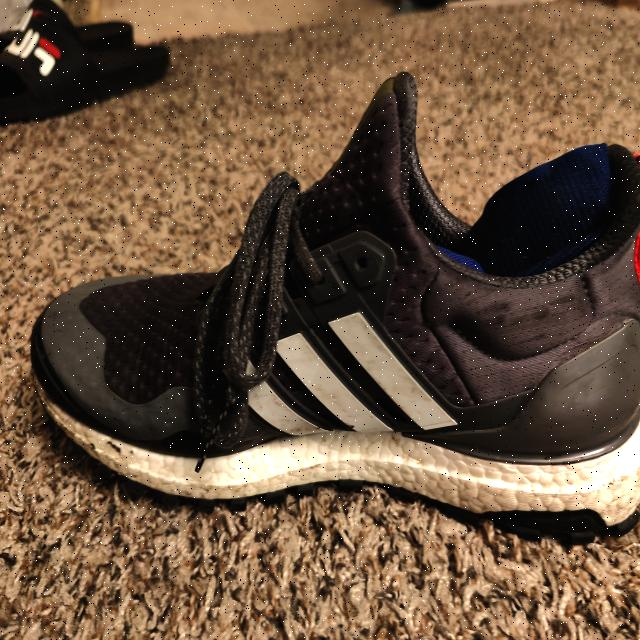black shoes: (27, 77, 640, 565)
